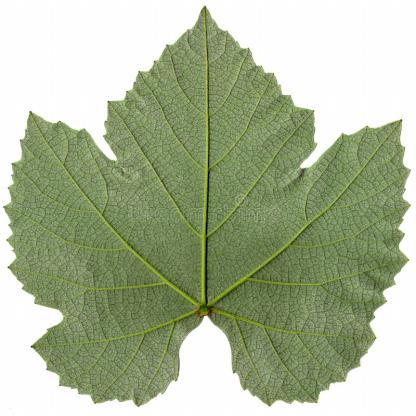grape leaf: (1, 6, 414, 403)
